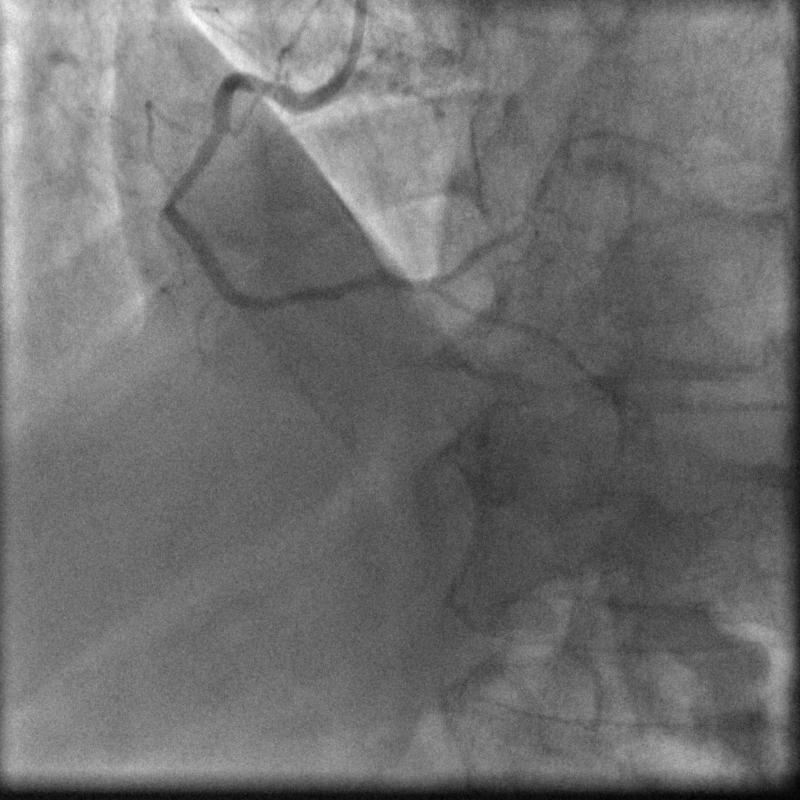Stenosis: (166, 190, 182, 210)
